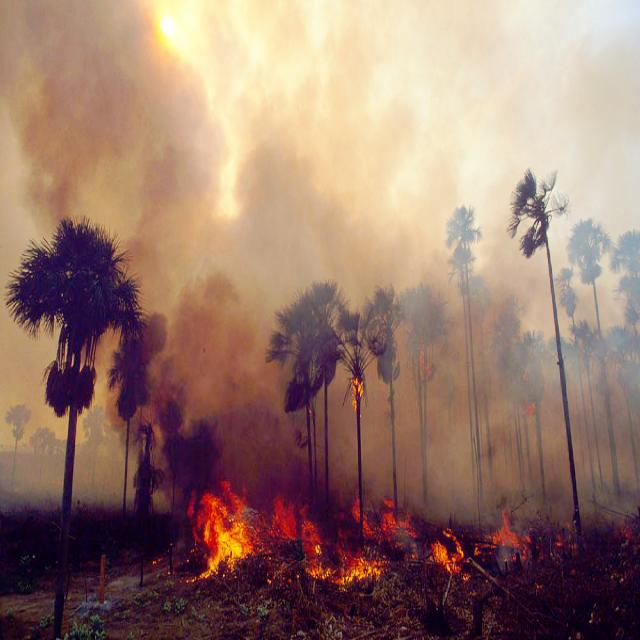api: (185, 483, 264, 586), (427, 523, 486, 594), (269, 496, 328, 566), (347, 498, 420, 542), (305, 556, 390, 591), (488, 503, 536, 554), (347, 368, 372, 420)
asap: (1, 1, 637, 555)
